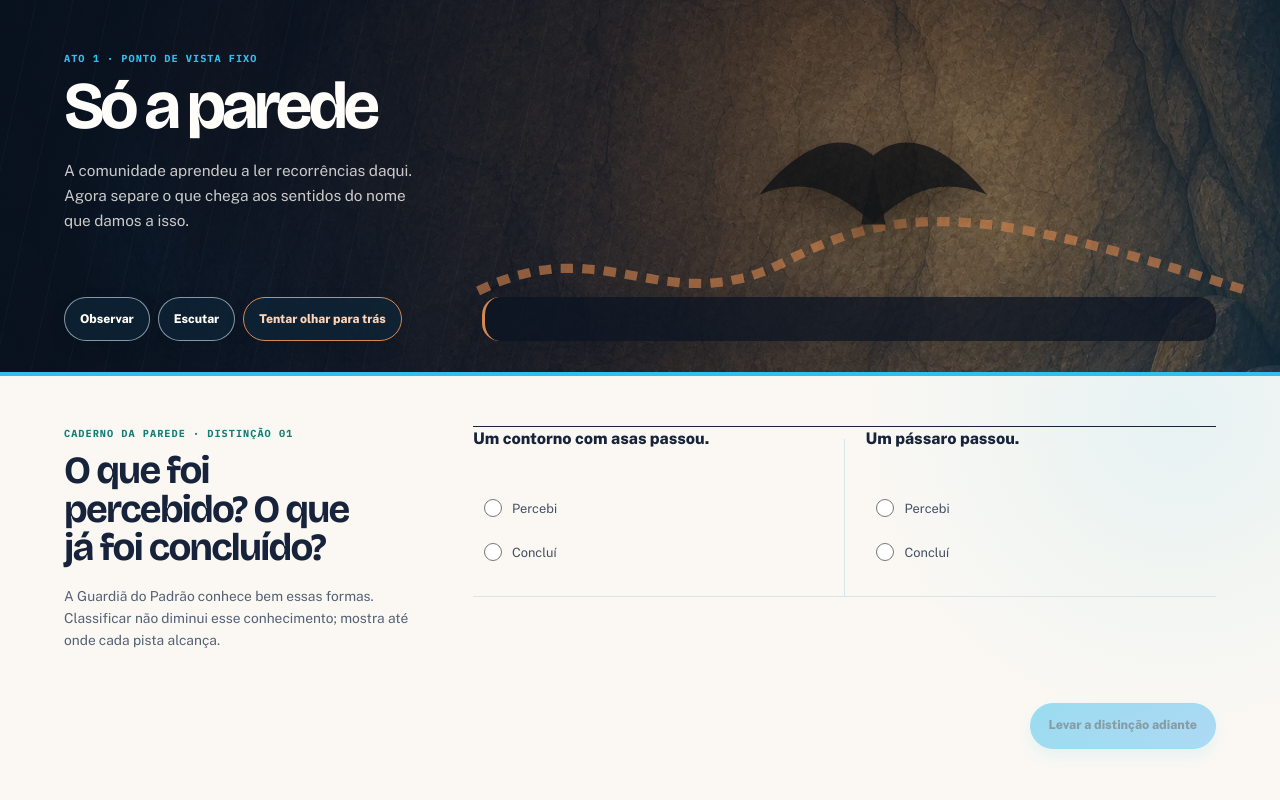
Test: distinguishes a constrained observation from an inference in Scene 1
Expected: the text "Um contorno com asas passou." is shown, [473,429,709,448]
Expected: the text "Um pássaro passou." is shown, [866,429,1020,448]
Click the button "Tentar olhar para trás" at (323, 319), box [243,297,402,341]
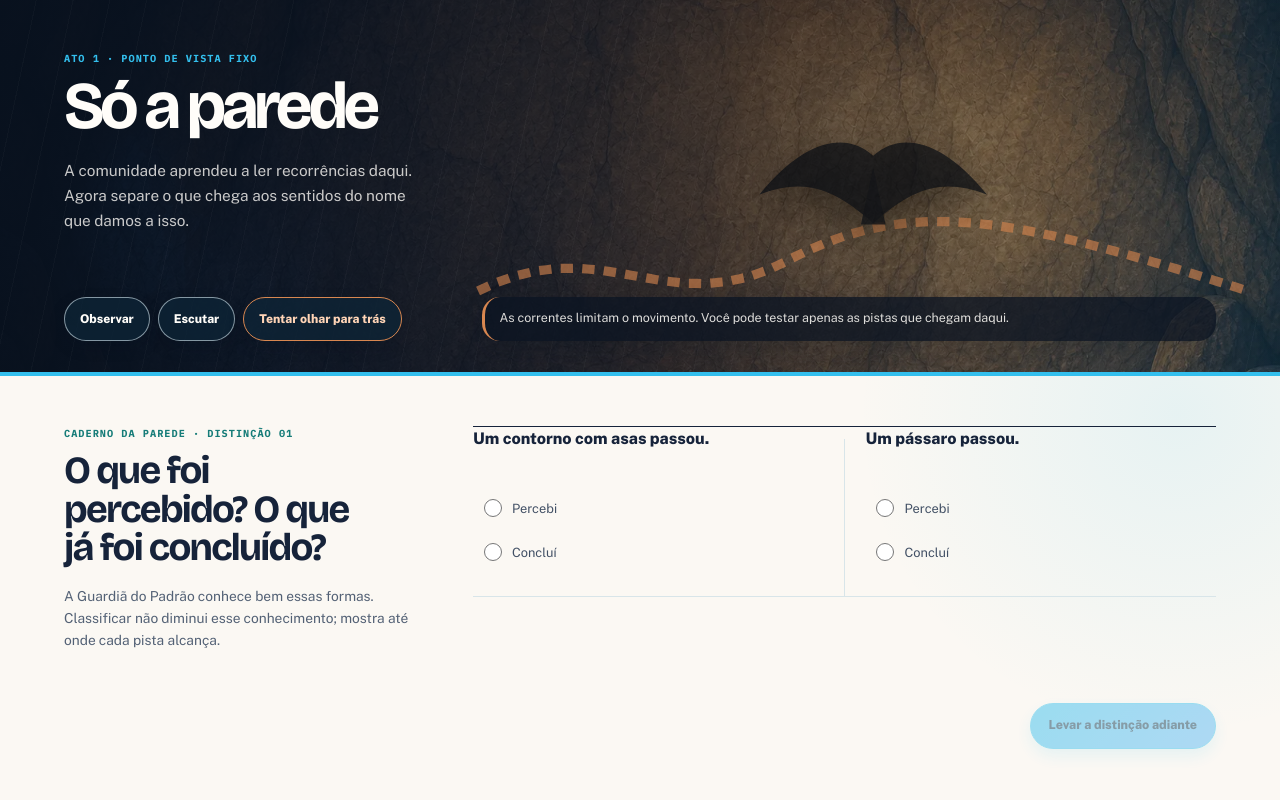
Expected: the text "as correntes limitam o movimento. você pode testar apenas as pistas que chegam daqui" is shown, [500,310,1009,325]
Click the radio button labelled "Percebi" below "Um contorno com asas passou." at (493, 508), box [484,499,502,517]
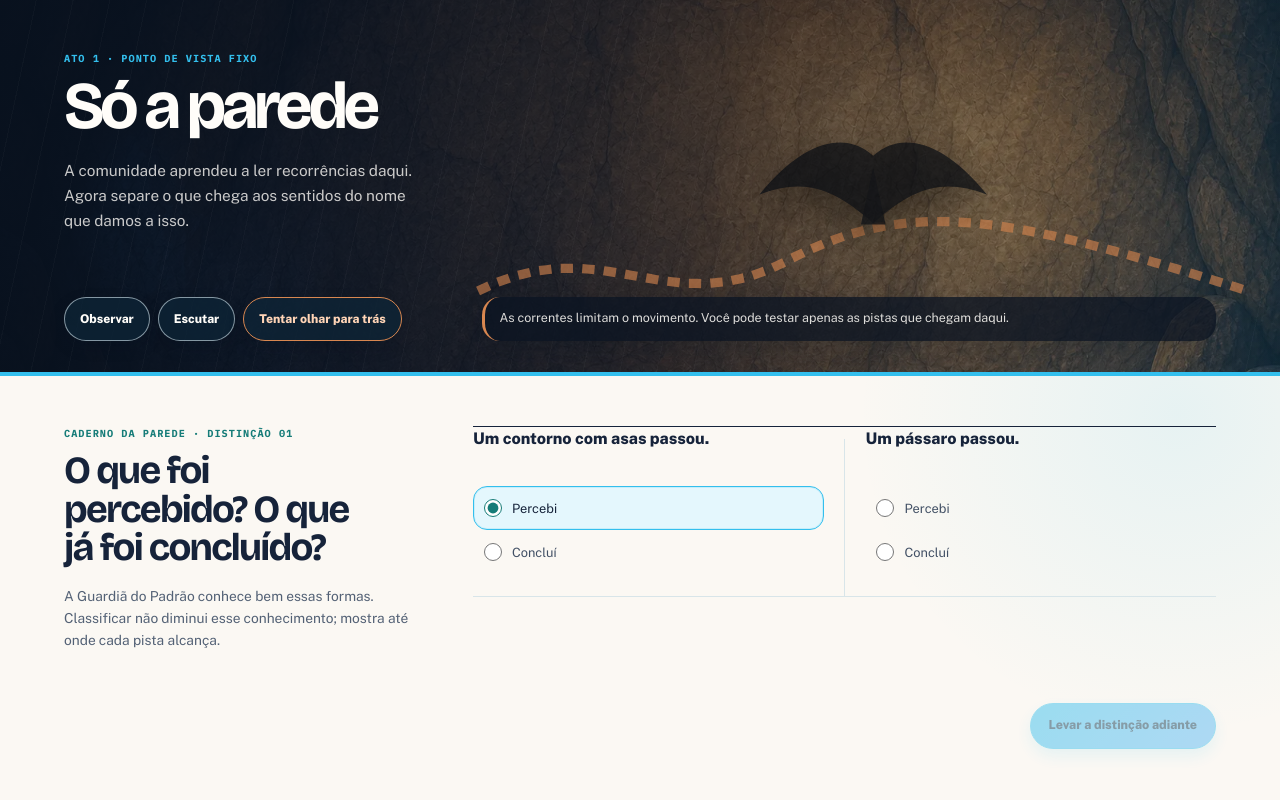
Click the radio button labelled "Concluí" below "Um pássaro passou." at (886, 552), box [876,543,894,561]
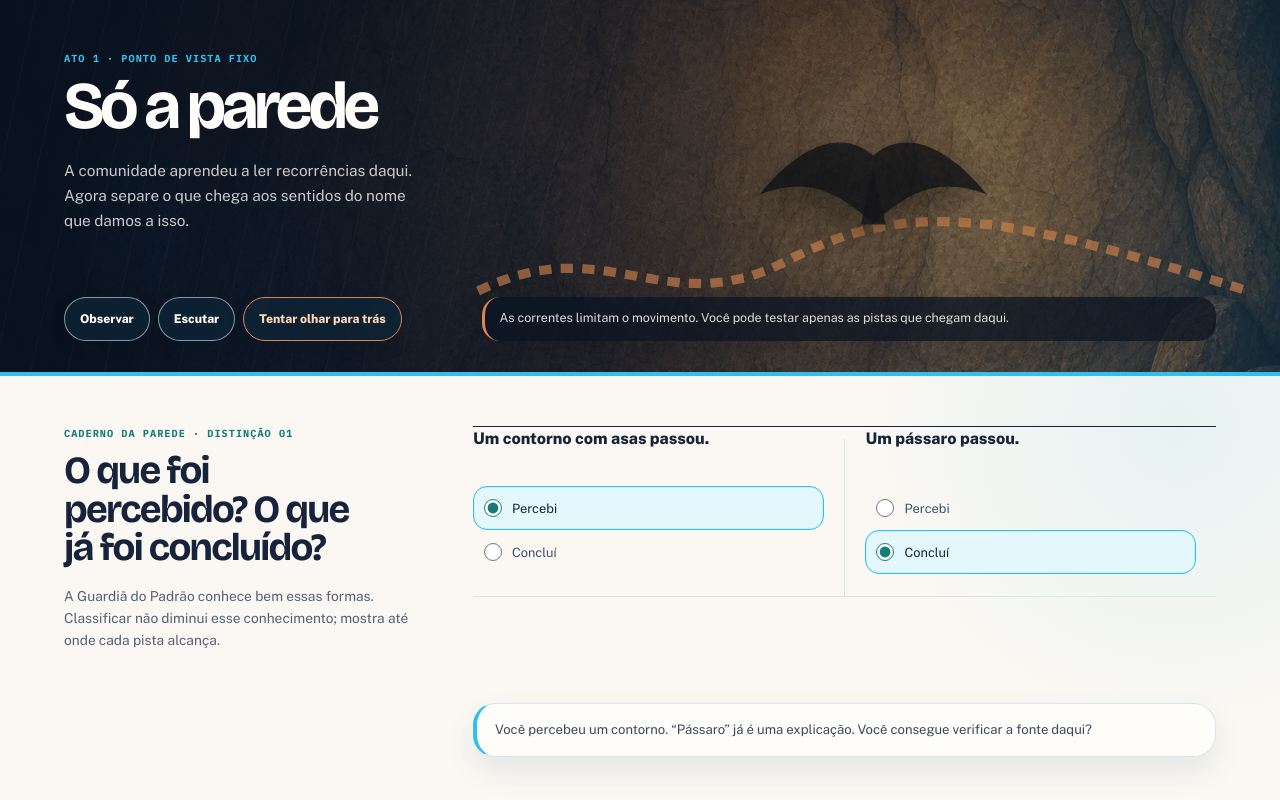
Expected: the text "Você percebeu um contorno. “Pássaro” já é uma explicação" is shown, [495,722,1092,737]
